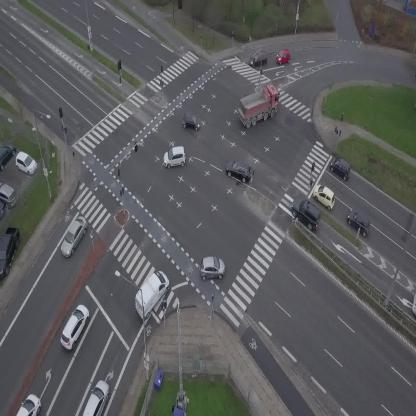car: (56, 302, 94, 352), (285, 193, 327, 233), (55, 214, 92, 259), (83, 378, 113, 416), (343, 206, 377, 239), (308, 180, 341, 212), (223, 158, 255, 184), (326, 154, 355, 181), (198, 254, 226, 281), (16, 391, 44, 416), (161, 146, 187, 169), (181, 112, 202, 131), (248, 50, 269, 67), (273, 47, 292, 65)
lorry: (232, 82, 288, 131), (126, 267, 175, 322), (412, 293, 416, 316)
